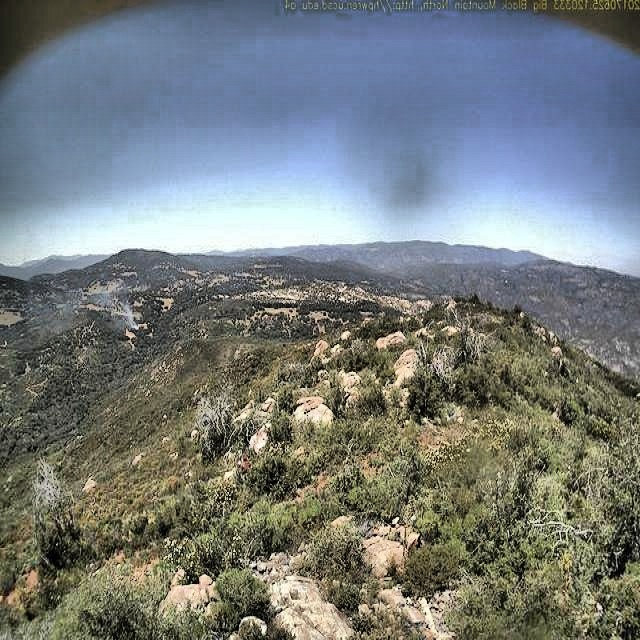smoke: (83, 285, 149, 339)
